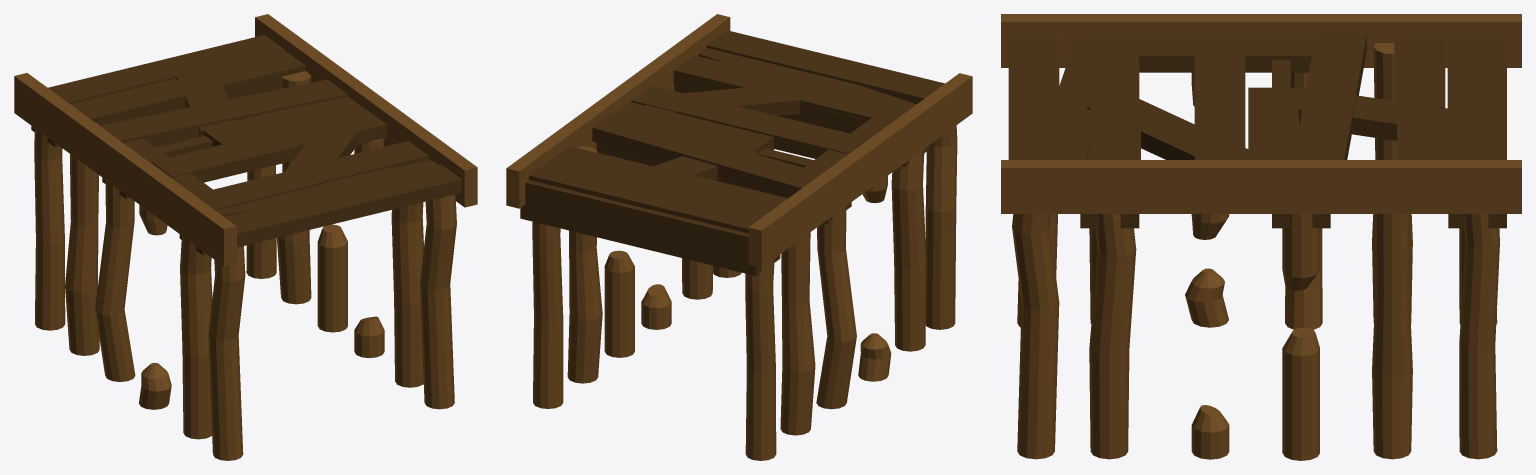
File: DockBroken.fbx
The picture shows the model from 3 angles, left to right: view 1: azimuth 30°, elevation 25°; view 2: azimuth 150°, elevation 25°; view 3: azimuth 270°, elevation 25°; orthographic projection. The views are drawn at different scales.
Parts seen in each view (by area): view 1: Dock; view 2: Dock; view 3: Dock.
Boxes of the visible parts, x1,y1,x2,y2 form: Dock: (14,14,477,460); Dock: (506,14,972,460); Dock: (1001,14,1521,460).
Size of the model in its own units: 413 by 368 by 579.
